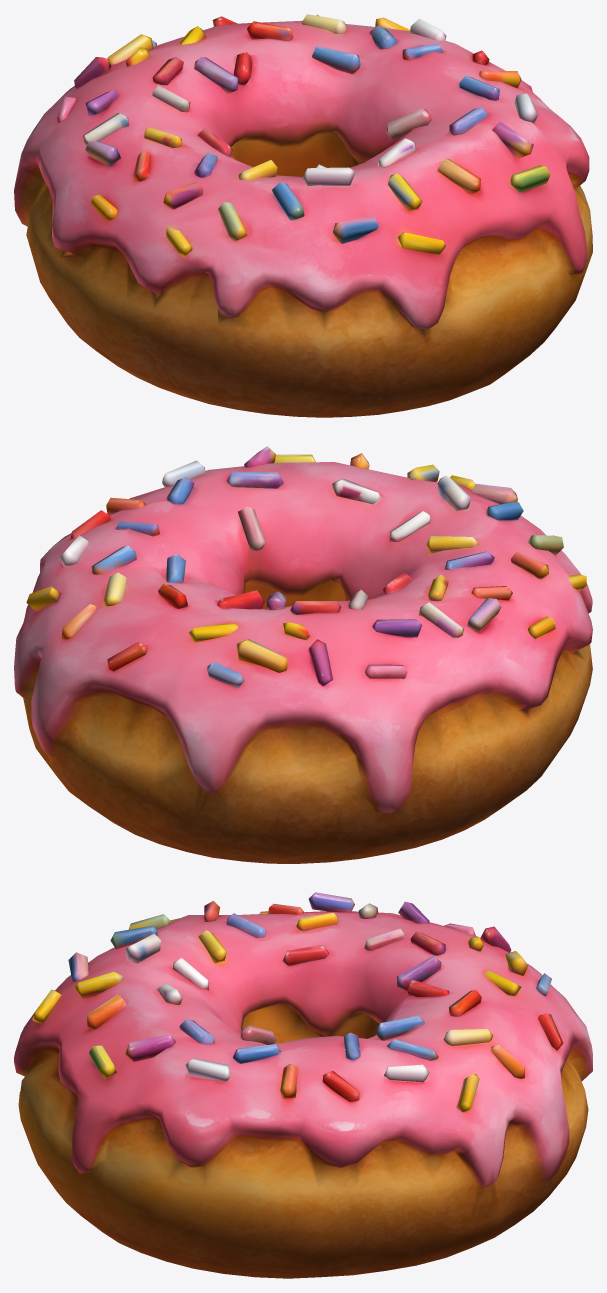
The model's file is food_donut.glb.
The picture shows the model from 3 angles, top to bottom: view 1: azimuth 30°, elevation 25°; view 2: azimuth 150°, elevation 25°; view 3: azimuth 270°, elevation 25°; orthographic projection. The views are drawn at different scales.
Parts seen in each view (by area): view 1: tripo_node_ed9df481-a02d-4bc0-a79f-a4a0e6bfb8f9; view 2: tripo_node_ed9df481-a02d-4bc0-a79f-a4a0e6bfb8f9; view 3: tripo_node_ed9df481-a02d-4bc0-a79f-a4a0e6bfb8f9.
Boxes of the visible parts, left/top/right/bottom form: tripo_node_ed9df481-a02d-4bc0-a79f-a4a0e6bfb8f9: left=14, top=14, right=592, bottom=417; tripo_node_ed9df481-a02d-4bc0-a79f-a4a0e6bfb8f9: left=14, top=446, right=592, bottom=863; tripo_node_ed9df481-a02d-4bc0-a79f-a4a0e6bfb8f9: left=14, top=892, right=592, bottom=1278.
Bounding box in the file's own units: 0.2121 × 0.1 × 0.2291.
Materials: 1 (1 with a texture image).
